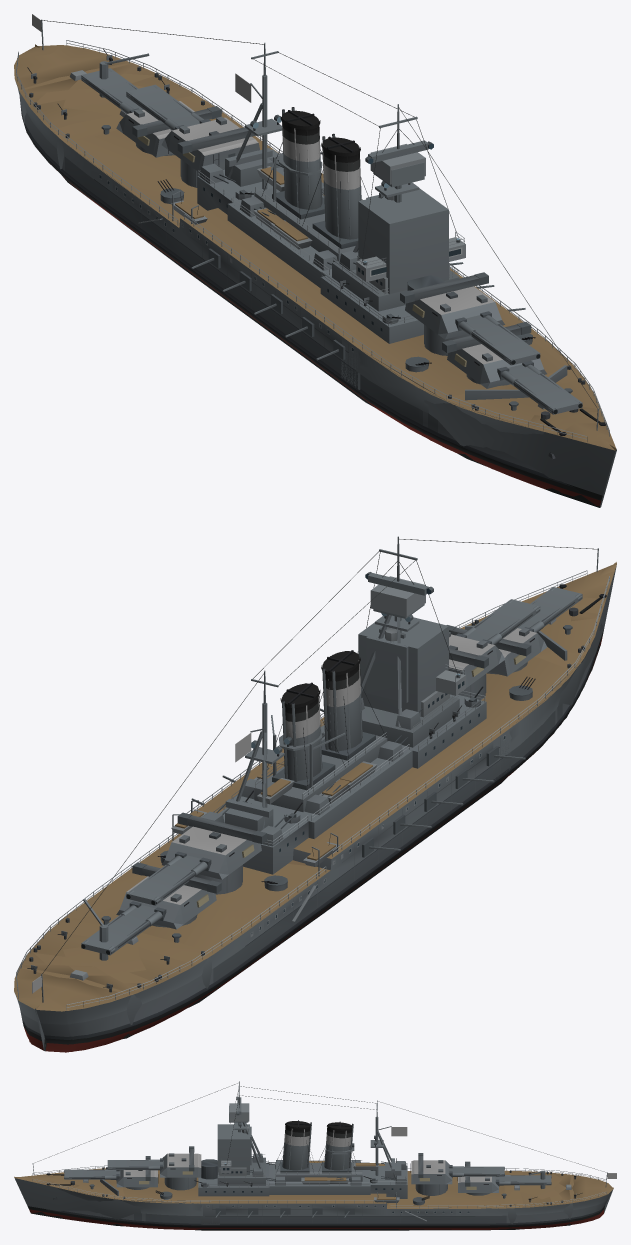
The model's file is ship_any_battleship.glb.
3 views of the same model, one above another, from view 1: azimuth 30°, elevation 25°; view 2: azimuth 150°, elevation 25°; view 3: azimuth 270°, elevation 25° (orthographic). The views are drawn at different scales.
Parts seen in each view (by area): view 1: ship_any_battleship_LOD0_mesh, ship_any_battleship_LOD2_mesh, ship_any_battleship_LOD1_mesh, ship_any_battleship_LOD0_turret2_mesh, ship_any_battleship_LOD0_funnel0_mesh, ship_any_battleship_LOD0_funnel1_mesh, ship_any_battleship_LOD0_turret3_mesh, ship_any_battleship_LOD0_turret1_mesh, ship_any_battleship_LOD0_turret4_mesh, ship_any_battleship_LOD2_turret2_gun_mesh, ship_any_battleship_LOD2_turret1_gun_mesh, ship_any_battleship_LOD2_turret3_gun_mesh (+5 smaller); view 2: ship_any_battleship_LOD0_mesh, ship_any_battleship_LOD2_mesh, ship_any_battleship_LOD1_mesh, ship_any_battleship_LOD0_turret3_mesh, ship_any_battleship_LOD0_funnel0_mesh, ship_any_battleship_LOD0_funnel1_mesh, ship_any_battleship_LOD0_turret4_mesh, ship_any_battleship_LOD0_turret2_mesh, ship_any_battleship_LOD0_foremast_mesh, ship_any_battleship_LOD2_turret3_gun_mesh, ship_any_battleship_LOD0_turret1_mesh, ship_any_battleship_LOD2_turret4_gun_mesh (+4 smaller); view 3: ship_any_battleship_LOD0_mesh, ship_any_battleship_LOD2_mesh, ship_any_battleship_LOD1_mesh, ship_any_battleship_LOD0_funnel0_mesh, ship_any_battleship_LOD0_funnel1_mesh, ship_any_battleship_LOD0_turret3_mesh, ship_any_battleship_LOD0_turret2_mesh, ship_any_battleship_LOD0_turret1_mesh, ship_any_battleship_LOD0_turret4_mesh, ship_any_battleship_LOD2_turret1_gun_mesh, ship_any_battleship_LOD2_turret3_gun_mesh, ship_any_battleship_LOD2_turret4_gun_mesh (+7 smaller).
Part boxes in pixels (box(x1,y1,x2,y2)): ship_any_battleship_LOD0_mesh: box(14, 14, 615, 502); ship_any_battleship_LOD2_mesh: box(19, 62, 616, 507); ship_any_battleship_LOD1_mesh: box(17, 44, 616, 505); ship_any_battleship_LOD0_turret2_mesh: box(400, 272, 504, 339); ship_any_battleship_LOD0_funnel0_mesh: box(321, 133, 361, 239); ship_any_battleship_LOD0_funnel1_mesh: box(280, 107, 322, 209); ship_any_battleship_LOD0_turret3_mesh: box(161, 116, 259, 172); ship_any_battleship_LOD0_turret1_mesh: box(442, 321, 546, 388); ship_any_battleship_LOD0_turret4_mesh: box(116, 101, 221, 157); ship_any_battleship_LOD2_turret2_gun_mesh: box(466, 315, 540, 365); ship_any_battleship_LOD2_turret1_gun_mesh: box(508, 364, 582, 414); ship_any_battleship_LOD2_turret3_gun_mesh: box(126, 84, 199, 126); ship_any_battleship_LOD0_mesh: box(14, 539, 616, 1052); ship_any_battleship_LOD2_mesh: box(19, 562, 616, 1049); ship_any_battleship_LOD1_mesh: box(17, 568, 615, 1051); ship_any_battleship_LOD0_turret3_mesh: box(162, 812, 266, 879); ship_any_battleship_LOD0_funnel0_mesh: box(321, 650, 362, 752); ship_any_battleship_LOD0_funnel1_mesh: box(280, 682, 322, 781); ship_any_battleship_LOD0_turret4_mesh: box(116, 862, 221, 929); ship_any_battleship_LOD0_turret2_mesh: box(449, 632, 504, 687); ship_any_battleship_LOD0_foremast_mesh: box(365, 536, 433, 632); ship_any_battleship_LOD2_turret3_gun_mesh: box(126, 855, 200, 905); ship_any_battleship_LOD0_turret1_mesh: box(446, 625, 547, 676); ship_any_battleship_LOD2_turret4_gun_mesh: box(81, 905, 155, 955); ship_any_battleship_LOD0_mesh: box(15, 1083, 616, 1229); ship_any_battleship_LOD2_mesh: box(14, 1106, 604, 1230); ship_any_battleship_LOD1_mesh: box(14, 1122, 613, 1228); ship_any_battleship_LOD0_funnel0_mesh: box(282, 1120, 311, 1170); ship_any_battleship_LOD0_funnel1_mesh: box(324, 1121, 353, 1170); ship_any_battleship_LOD0_turret3_mesh: box(410, 1153, 452, 1184); ship_any_battleship_LOD0_turret2_mesh: box(160, 1146, 201, 1177); ship_any_battleship_LOD0_turret1_mesh: box(116, 1156, 158, 1187); ship_any_battleship_LOD0_turret4_mesh: box(457, 1161, 498, 1192); ship_any_battleship_LOD2_turret1_gun_mesh: box(64, 1169, 120, 1179); ship_any_battleship_LOD2_turret3_gun_mesh: box(448, 1166, 504, 1176); ship_any_battleship_LOD2_turret4_gun_mesh: box(495, 1175, 551, 1185).
Bounding box in the file's own units: 38.66 × 45.2 × 187.
